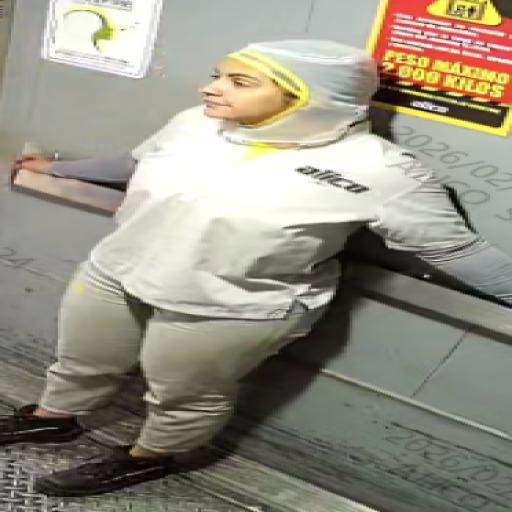person: (25, 7, 512, 512)
